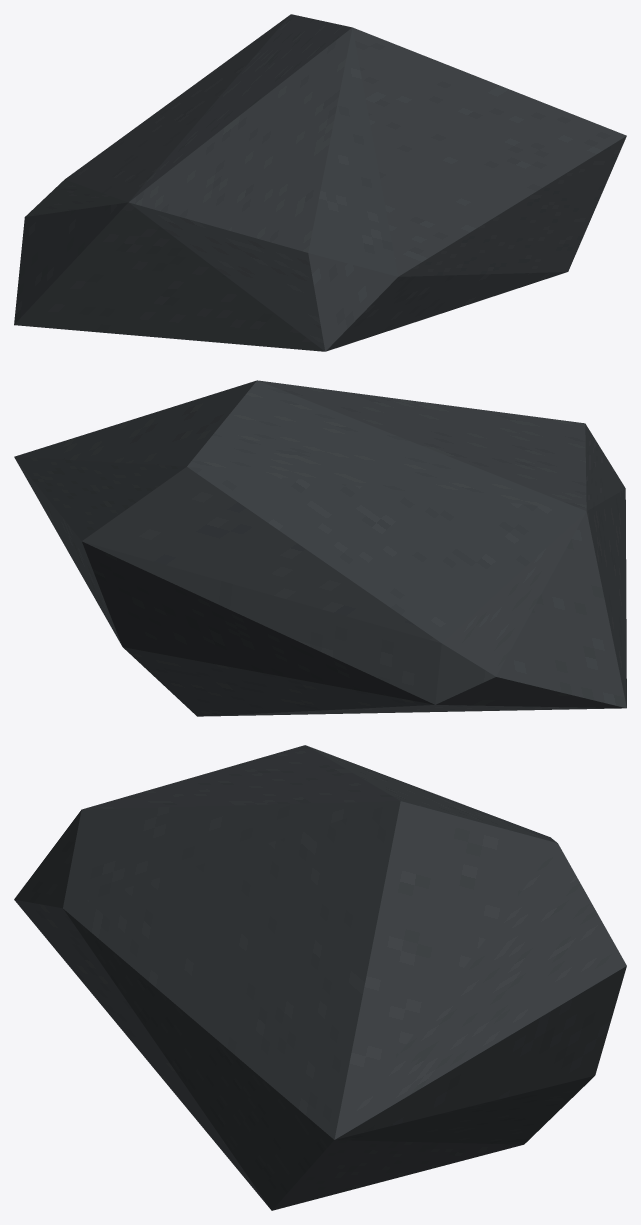
File: rubber_tire_chunk.glb
3 views of the same model, one above another, from view 1: azimuth 30°, elevation 25°; view 2: azimuth 150°, elevation 25°; view 3: azimuth 270°, elevation 25° (orthographic). The views are drawn at different scales.
Visible parts, largest first — view 1: block_rough fragment; view 2: block_rough fragment; view 3: block_rough fragment.
Boxes of the visible parts, x1,y1,x2,y2 form: block_rough fragment: [14, 14, 626, 351]; block_rough fragment: [14, 380, 626, 716]; block_rough fragment: [14, 745, 626, 1210].
Bounding box in the file's own units: 0.25 × 0.1108 × 0.1808.
Materials: 1 (1 with a texture image).
